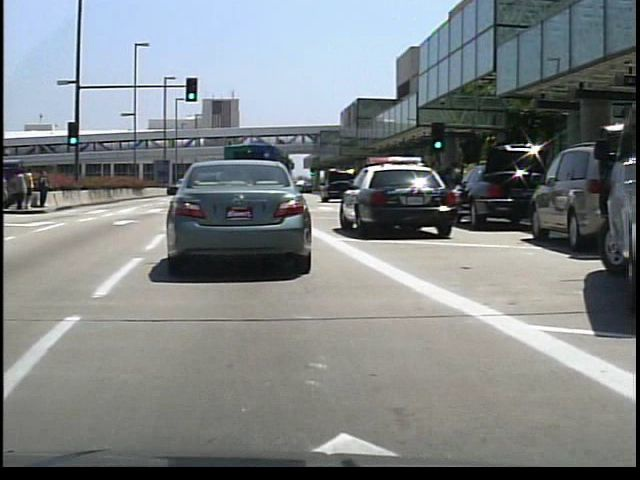person: (11, 168, 26, 213), (35, 167, 49, 210), (23, 164, 34, 212)
